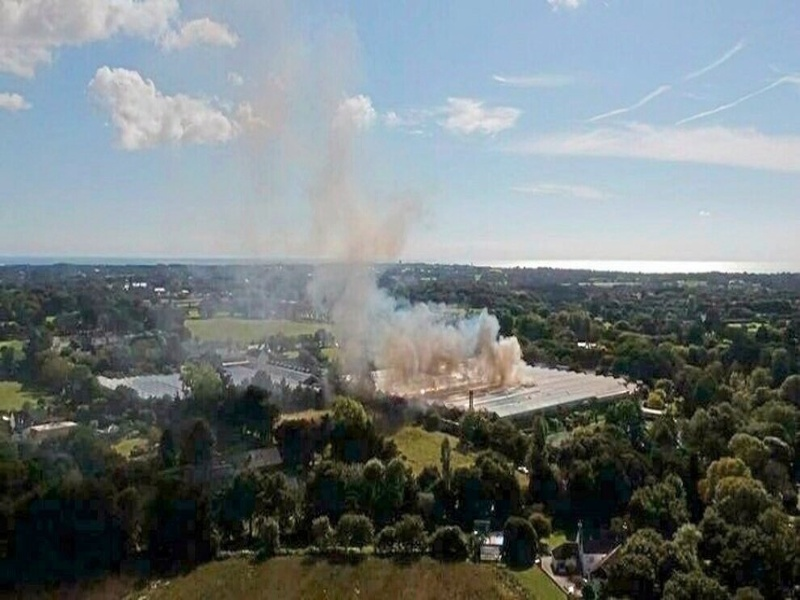smoke: (334, 288, 527, 393)
